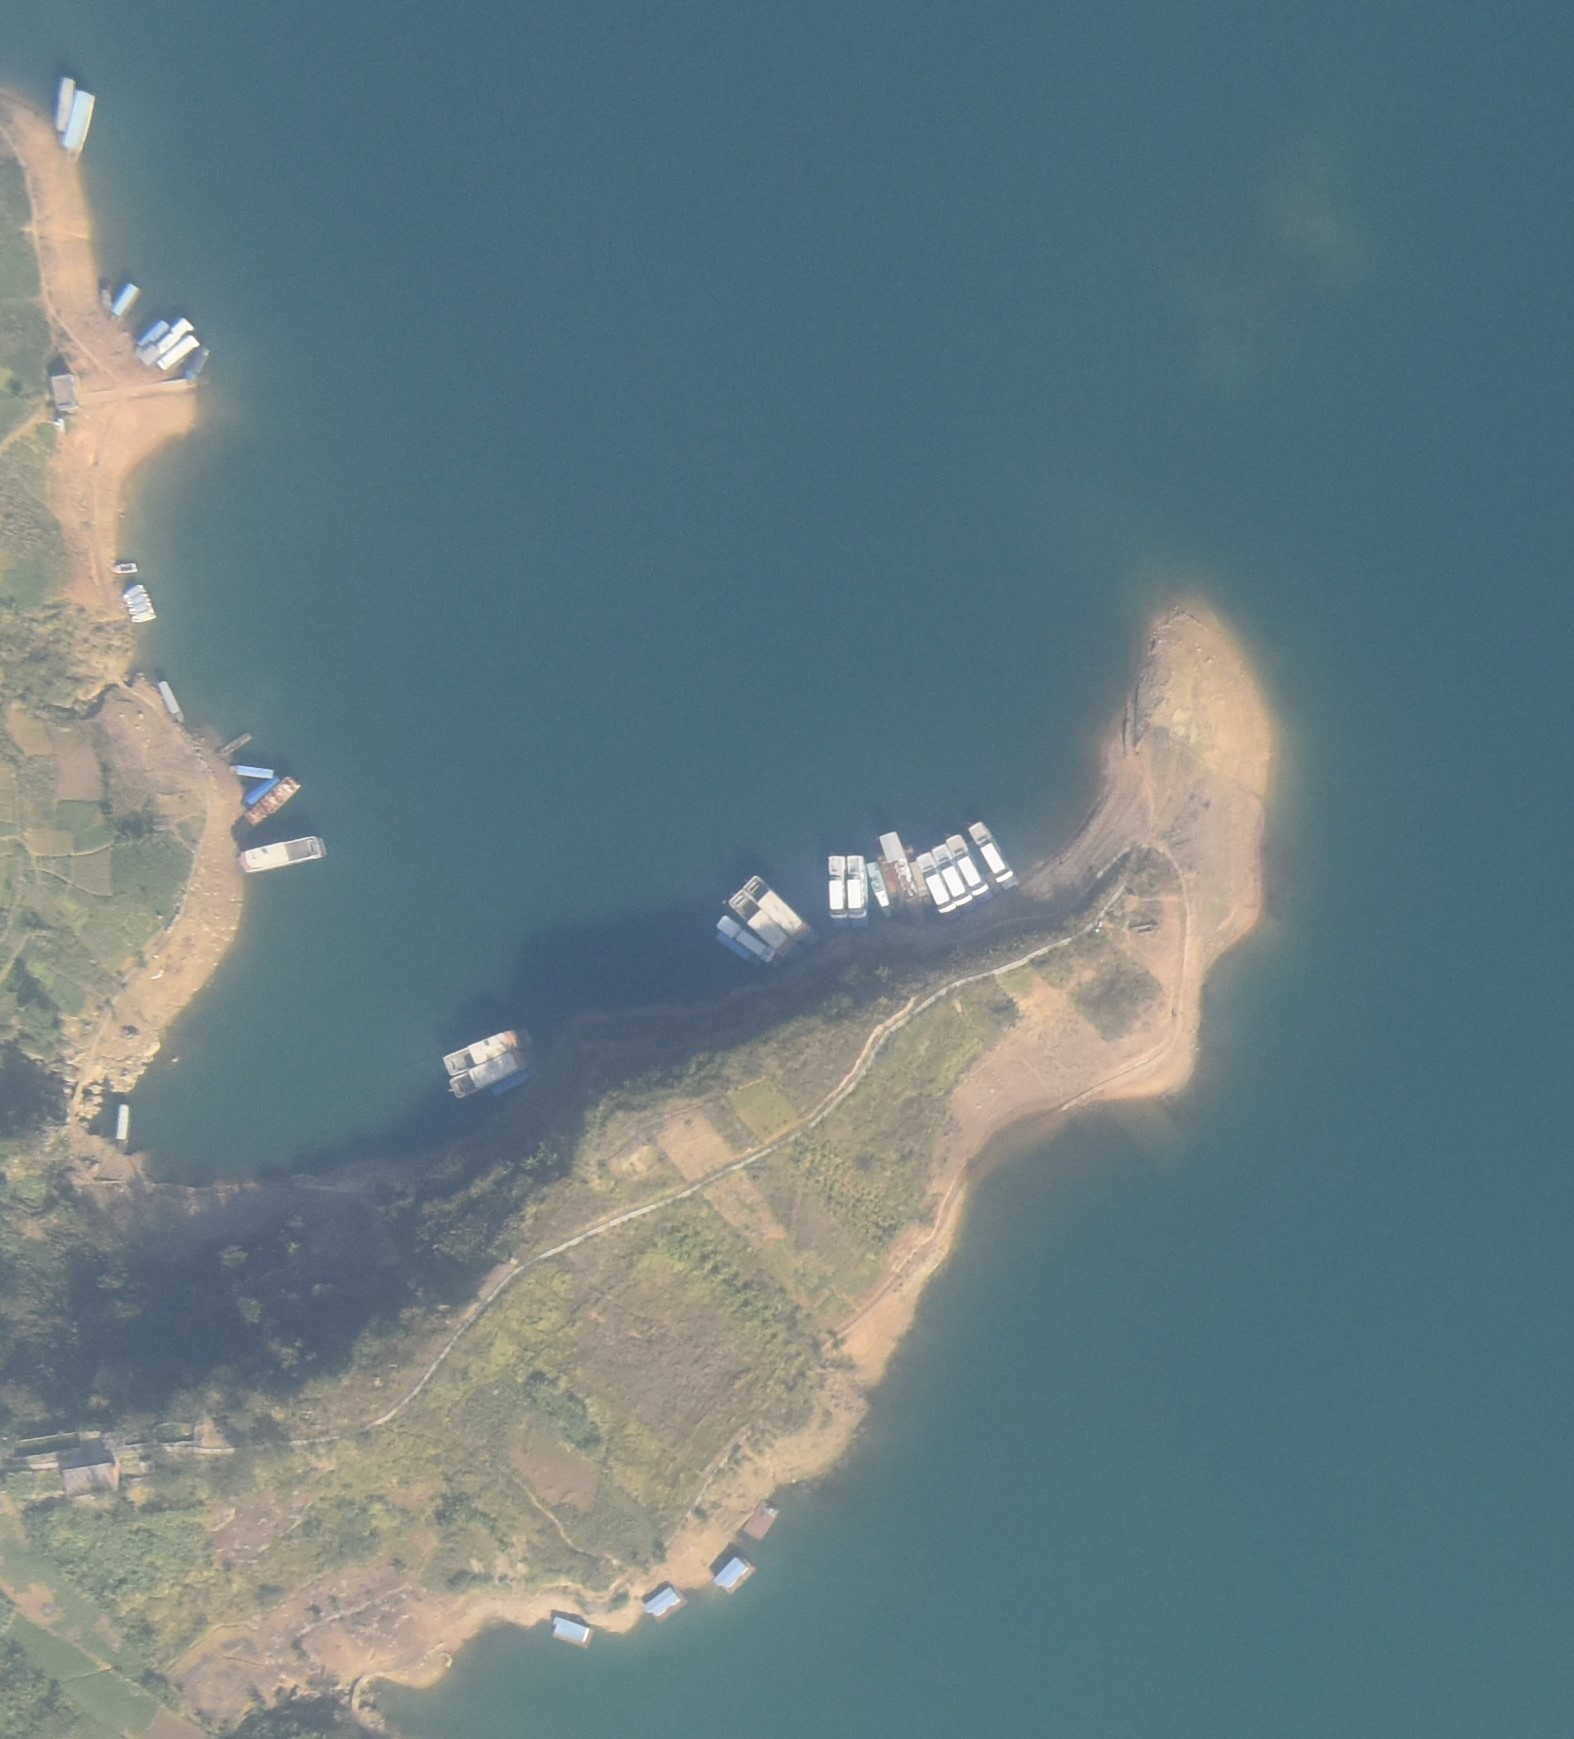building: (63, 1462, 117, 1498), (50, 375, 77, 412), (99, 279, 112, 314)
prefabricated-house: (741, 1500, 782, 1543), (714, 1557, 749, 1592), (553, 1615, 589, 1646), (645, 1585, 678, 1615)
ship: (742, 877, 819, 948), (728, 891, 797, 957), (441, 1027, 539, 1073), (449, 1046, 538, 1096), (234, 776, 302, 829), (968, 822, 1020, 891), (945, 833, 995, 903), (235, 835, 328, 872), (879, 831, 921, 912), (932, 841, 977, 914), (716, 914, 778, 963), (138, 315, 195, 362), (917, 851, 958, 913), (64, 88, 96, 157), (713, 929, 762, 969), (156, 334, 199, 368), (846, 855, 866, 925), (828, 856, 848, 922), (910, 860, 933, 913), (878, 857, 899, 914), (136, 318, 168, 354), (159, 680, 184, 724), (111, 278, 138, 318), (867, 859, 889, 908), (216, 731, 252, 760), (184, 345, 210, 382), (114, 1102, 134, 1145), (58, 77, 74, 130), (228, 765, 277, 779), (130, 608, 157, 624), (109, 563, 139, 575), (125, 582, 142, 600), (124, 593, 149, 604), (128, 604, 154, 614)
